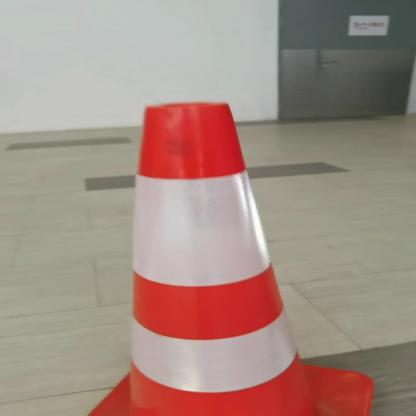cone: (72, 101, 388, 416)
